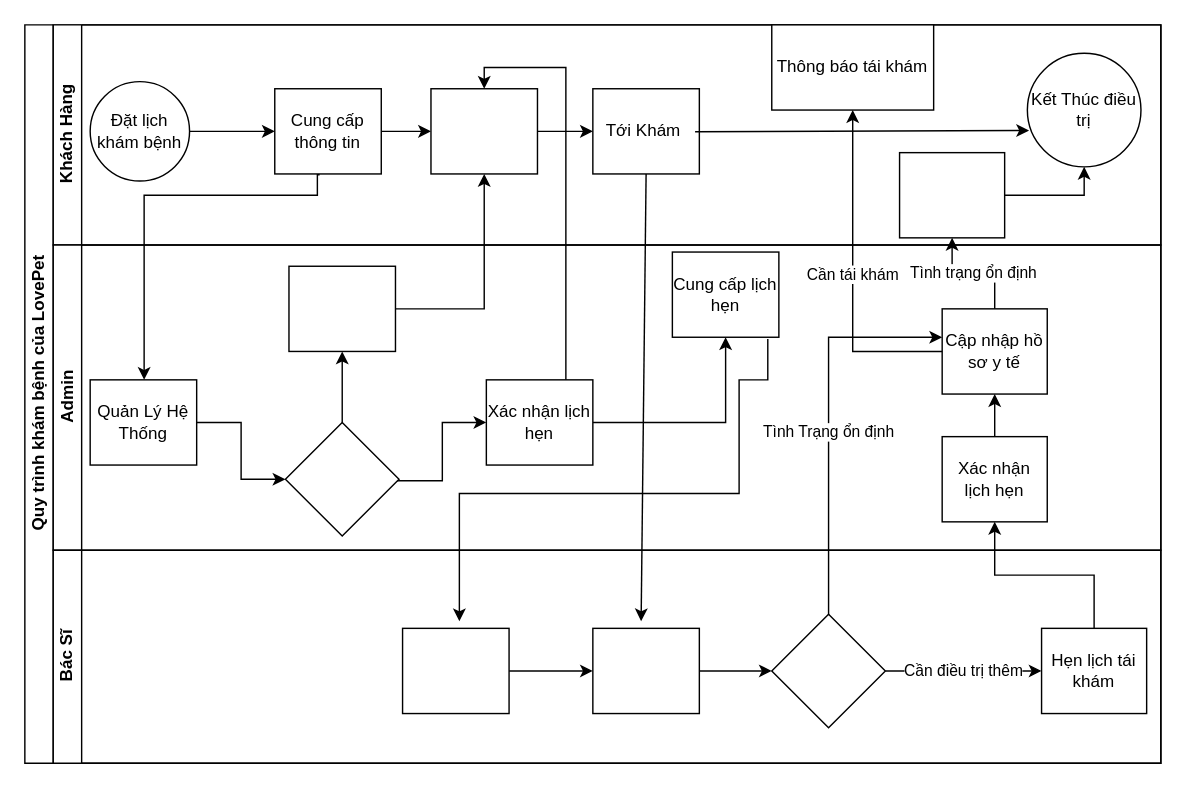
This 1186x788 diagram has some shape labels left out. The centre of each missing label's shape, as x and y in pixels:
"Chuẩn đoán" goes at (827,670).
"Hủy Lịch Hẹn" goes at (341,308).
"Khám Bệnh" goes at (645,670).
"Kiểm tra lịch hẹn" goes at (455,670).
"Nhận thông báo" goes at (483,130).
"Thanh toán" goes at (951,194).
"Xử lý thông tin" goes at (341,478).
